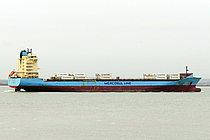Ship: (5, 45, 206, 97)
